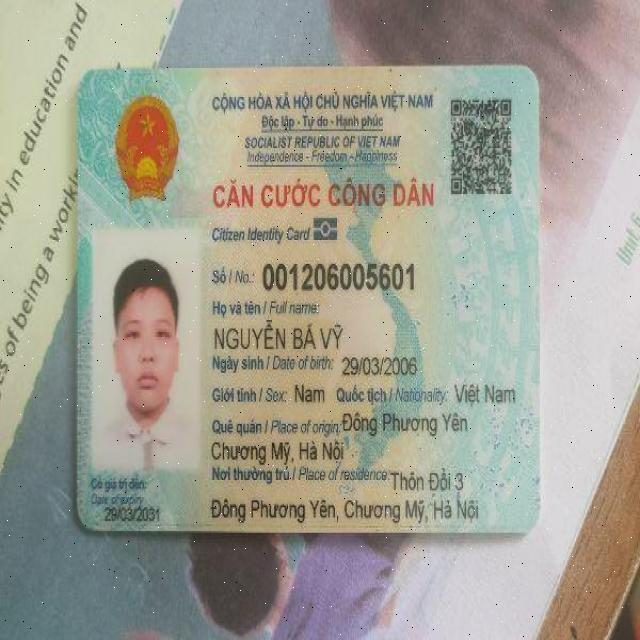current_place: (207, 493, 490, 527), (388, 460, 474, 494)
dob: (340, 349, 422, 381)
expire_date: (102, 504, 168, 528)
gender: (290, 381, 325, 410)
id: (258, 258, 418, 294)
name: (210, 321, 348, 351)
nationality: (448, 369, 519, 405)
origin_place: (202, 432, 348, 465), (340, 403, 470, 437)
qr: (448, 91, 516, 206)
